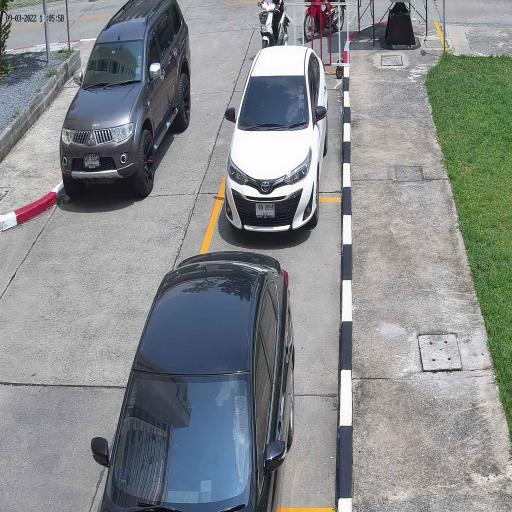car: (96, 250, 295, 511), (59, 1, 192, 199), (224, 46, 328, 232)
motorcycle: (303, 0, 346, 42), (259, 0, 290, 53)
